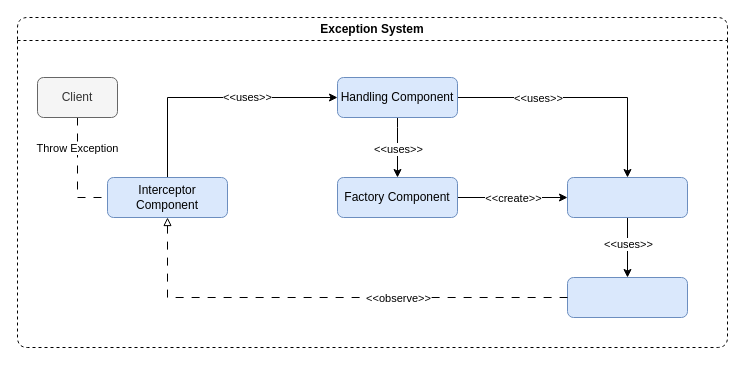
Some shapes in this 745 by 365 pixel diagram are drawn without their labels. The box of each missing label's shape, as (x1, y1, x2, y2) in pixels:
Exception Component: (566, 276, 688, 318)
Strategy Component: (566, 176, 688, 218)
